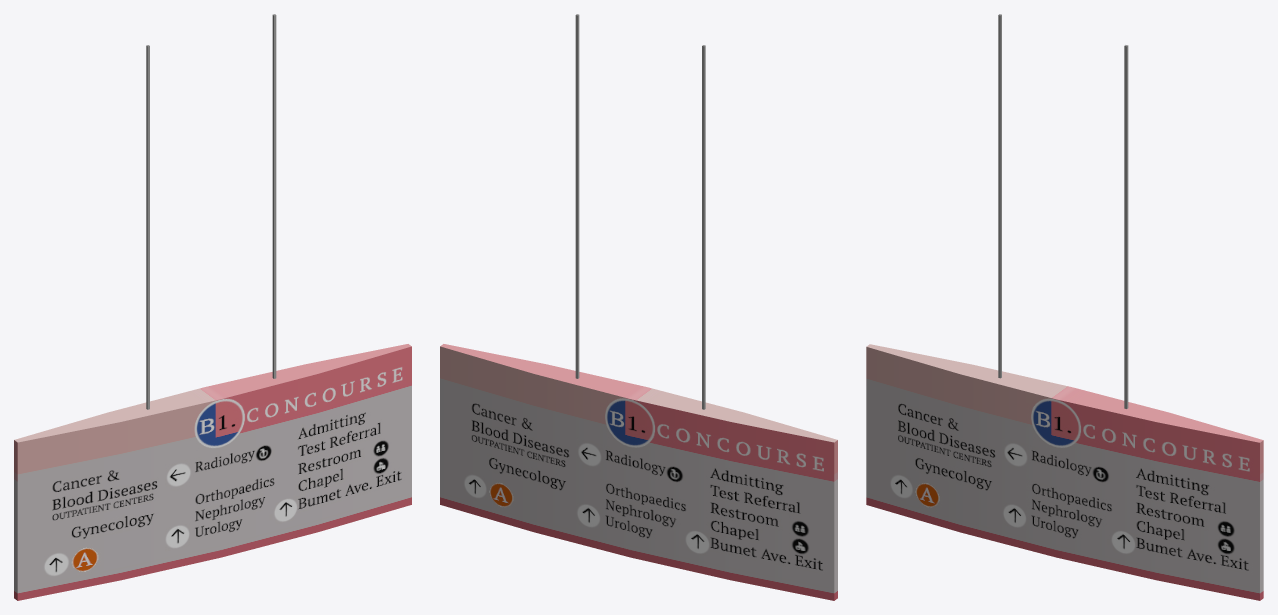
Rendered from lobby_directional_sign.fbx.
3 renders of one model, left to right at view 1: azimuth 30°, elevation 25°; view 2: azimuth 150°, elevation 25°; view 3: azimuth 330°, elevation 25°, orthographic.
Visible parts, largest first — view 1: sign, hanging_wires1, hanging_wires; view 2: sign, hanging_wires1, hanging_wires; view 3: sign, hanging_wires1, hanging_wires.
Boxes of the visible parts, box(x1,y1,x2,y2) form: sign: box(14, 344, 411, 600); hanging_wires1: box(272, 14, 276, 378); hanging_wires: box(146, 45, 149, 409); sign: box(440, 344, 837, 600); hanging_wires1: box(575, 14, 579, 378); hanging_wires: box(702, 45, 705, 409); sign: box(866, 344, 1263, 600); hanging_wires1: box(1124, 45, 1128, 408); hanging_wires: box(998, 14, 1001, 378).
Bounding box in the file's own units: 2.6 × 3.29 × 0.1886.
Materials: 2 (1 with a texture image).
